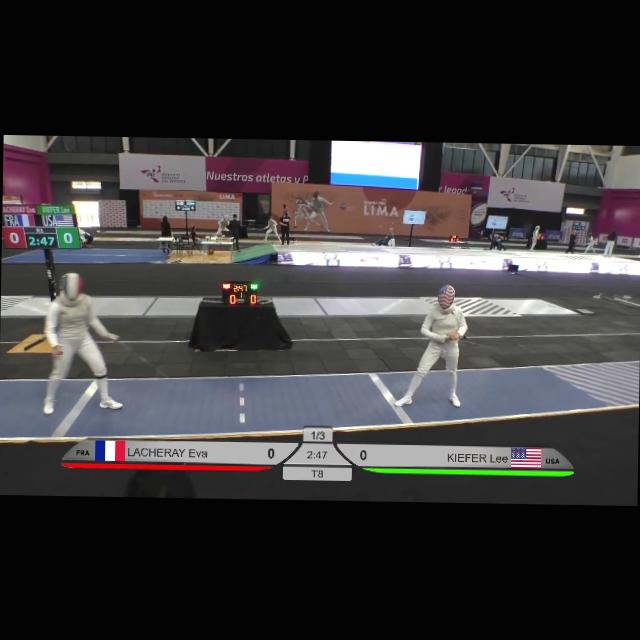blade: (109, 334, 178, 386), (443, 332, 520, 362)
